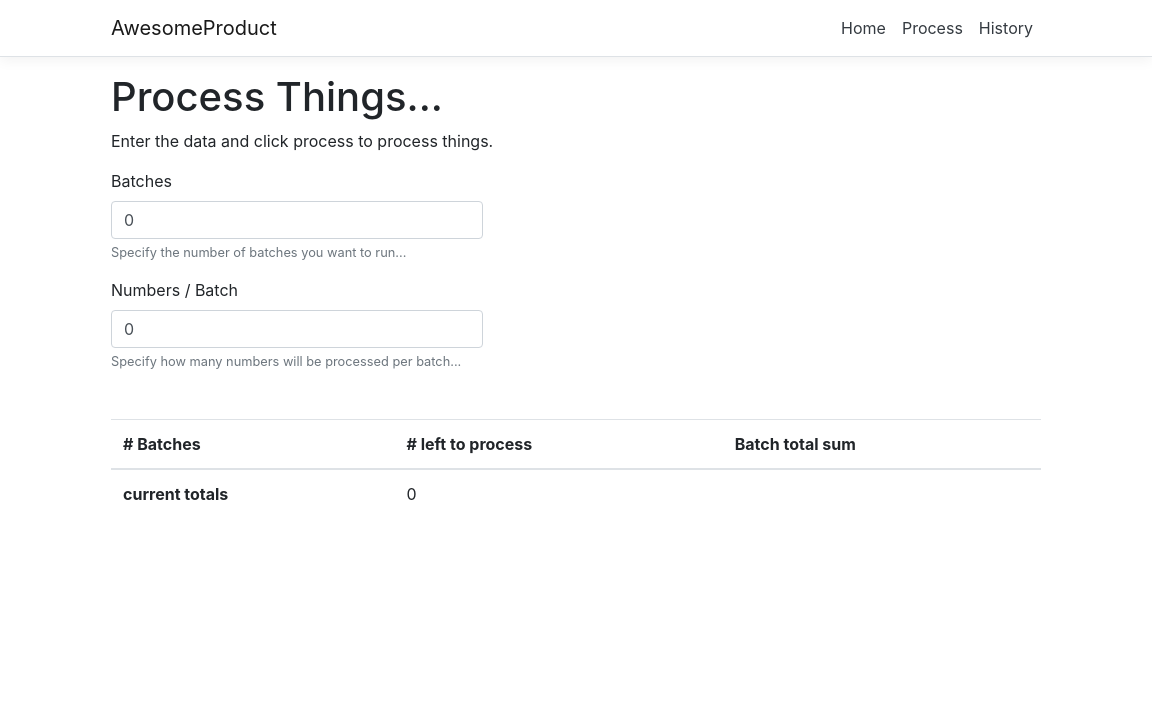
Test: should display process button when inputs are valid
The image size is (1152, 720).
expect the number field below "Numbers / Batch" holds "0": met, box x1=111 y1=310 x2=483 y2=348
Type "1" into the 1st number field at coordinates (297, 220), box x1=111 y1=201 x2=483 y2=239
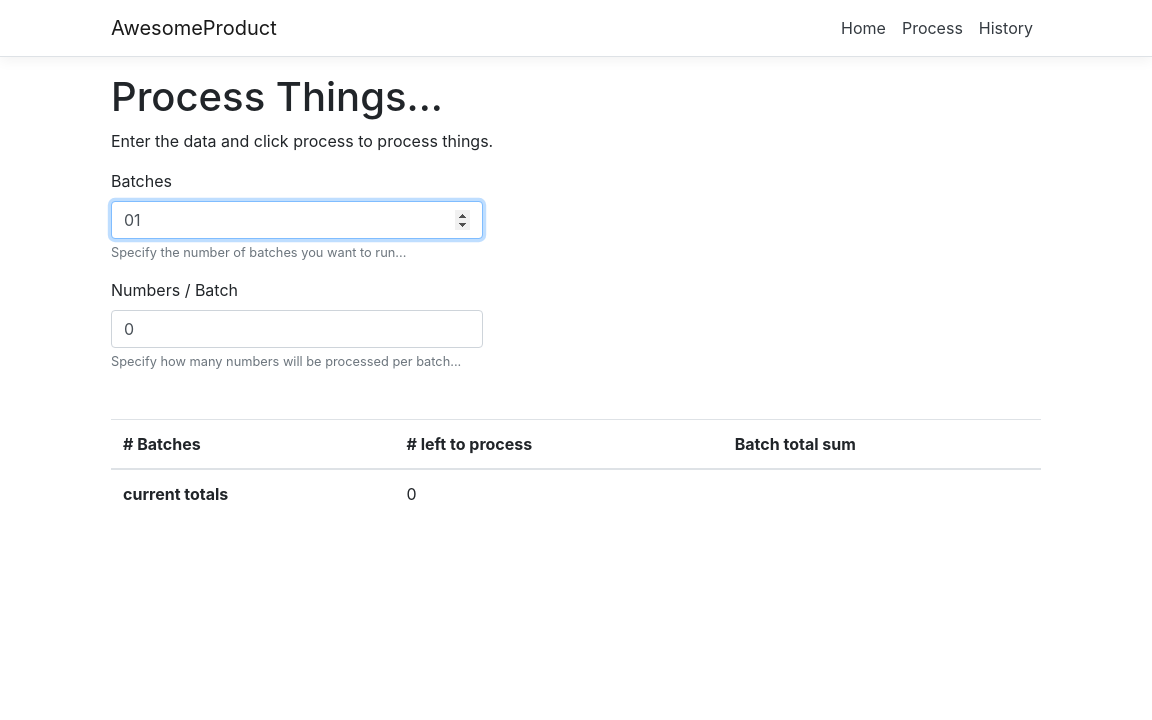
Type "1" into the number field below "Numbers / Batch" at coordinates (297, 329), box x1=111 y1=310 x2=483 y2=348
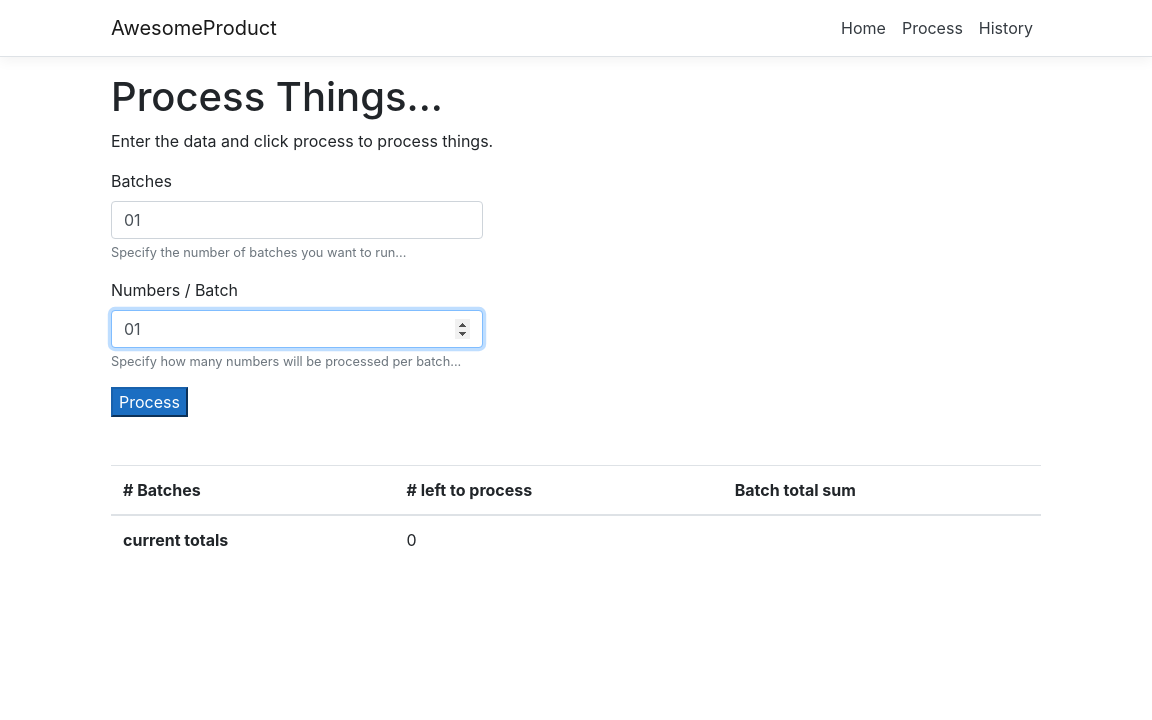
expect the button "Process" is shown: met, box x1=111 y1=387 x2=188 y2=417
